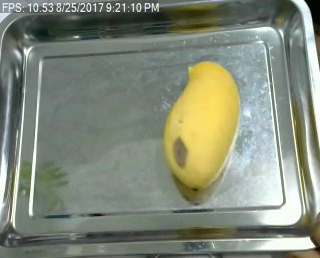Mango: (159, 59, 242, 193)
